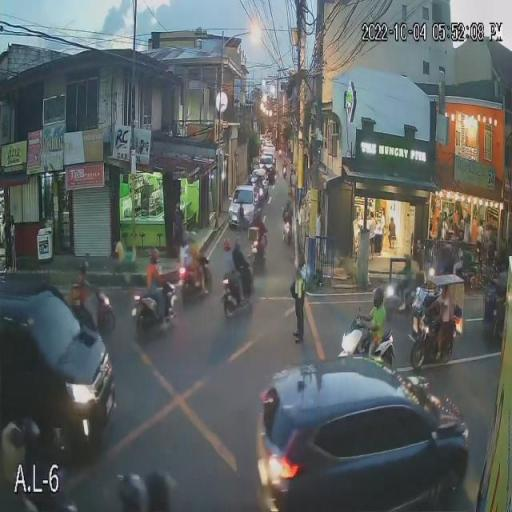helmet: (372, 287, 384, 307), (147, 248, 160, 264), (78, 260, 90, 272), (182, 229, 190, 245), (404, 256, 413, 269), (221, 237, 230, 250), (190, 230, 198, 244), (254, 208, 263, 220), (234, 238, 242, 251), (286, 198, 291, 207)
motorcycle: (338, 322, 394, 360), (132, 292, 176, 338), (220, 267, 256, 318), (75, 292, 119, 333), (179, 263, 213, 304), (252, 238, 267, 264), (387, 279, 399, 309), (284, 222, 294, 243)
rider: (147, 264, 168, 329), (223, 252, 247, 304), (369, 306, 386, 362), (192, 244, 208, 297), (234, 252, 251, 297), (76, 274, 93, 318), (402, 269, 414, 309), (181, 248, 193, 276), (255, 221, 266, 238), (286, 208, 292, 230)
